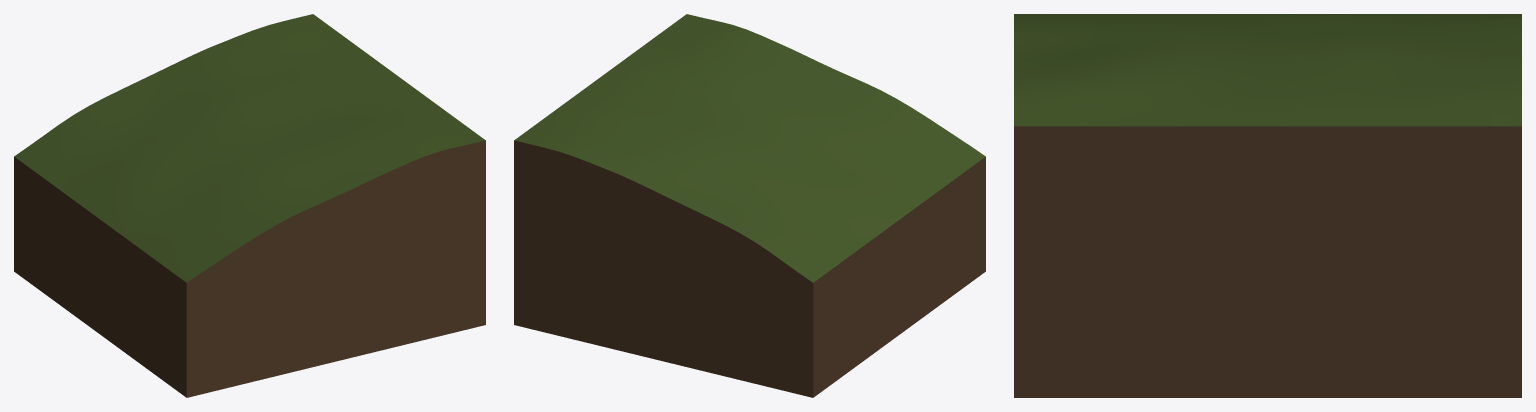
3 renders of one model, left to right at view 1: azimuth 30°, elevation 25°; view 2: azimuth 150°, elevation 25°; view 3: azimuth 270°, elevation 25°, orthographic. The views are drawn at different scales.
Visible parts, largest first — view 1: e2go; view 2: e2go; view 3: e2go.
Boxes of the visible parts, left/top/right/bottom form: e2go: left=14, top=14, right=485, bottom=397; e2go: left=514, top=14, right=985, bottom=397; e2go: left=1014, top=14, right=1521, bottom=397.
Bounding box in the file's own units: 9 × 5.34 × 9.
